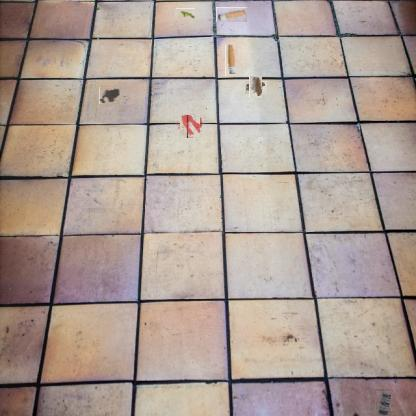dirty: (216, 7, 247, 22), (225, 44, 238, 76), (375, 390, 391, 416), (247, 79, 265, 96), (176, 8, 196, 19)
liquid: (179, 115, 201, 138), (99, 86, 120, 104)
